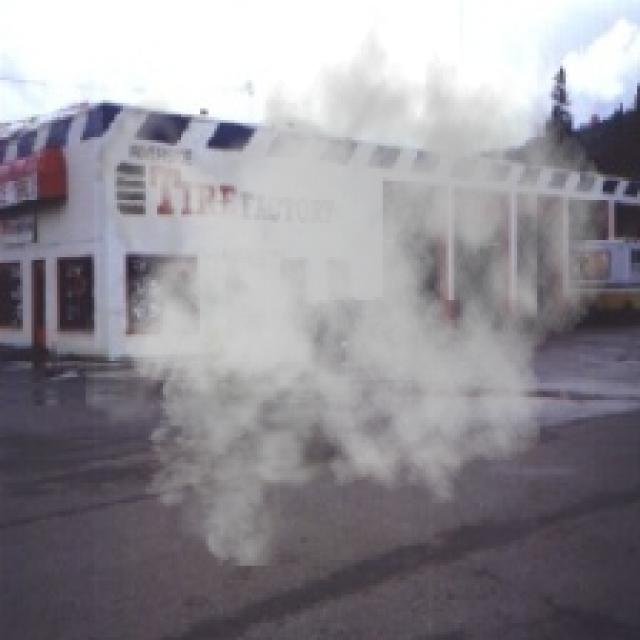smoke: (86, 6, 611, 566)
